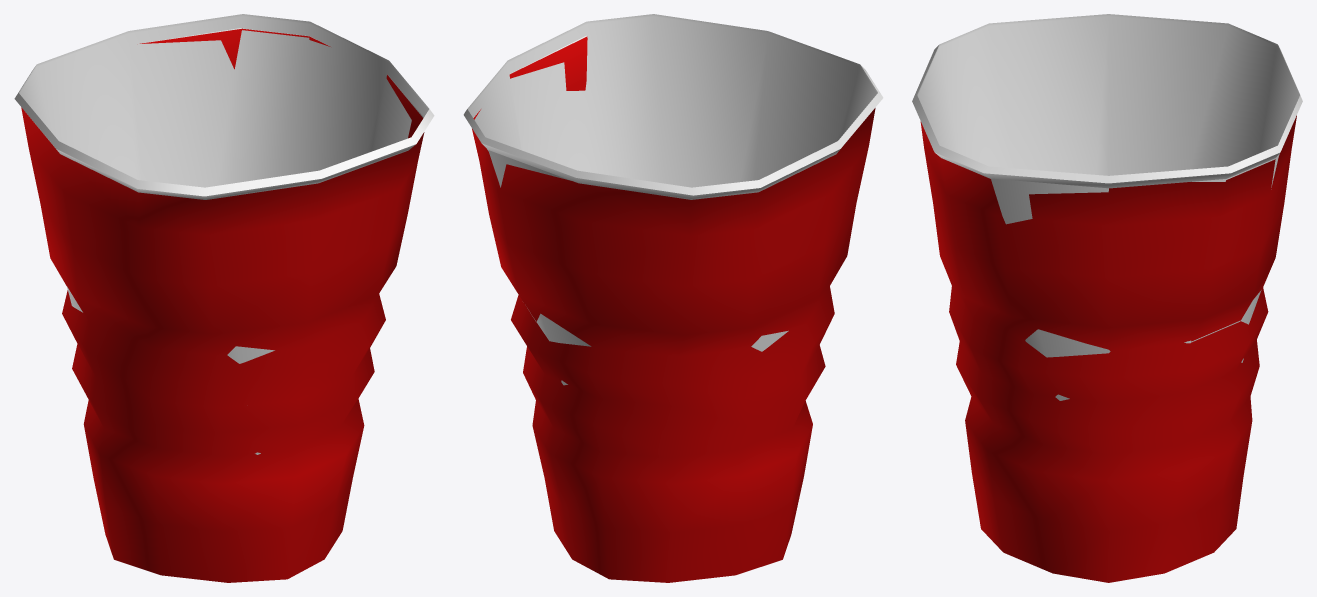
Rendered from cup.obj.
3 renders of one model, left to right at view 1: azimuth 30°, elevation 25°; view 2: azimuth 150°, elevation 25°; view 3: azimuth 270°, elevation 25°, orthographic.
Visible parts, largest first — view 1: mesh01; view 2: mesh01; view 3: mesh01.
Part boxes in pixels (x1,y1,x2,y2): mesh01: [14, 14, 434, 582]; mesh01: [463, 14, 883, 582]; mesh01: [912, 14, 1302, 582].
Size of the model in its own units: 24.39 by 30 by 24.49.
